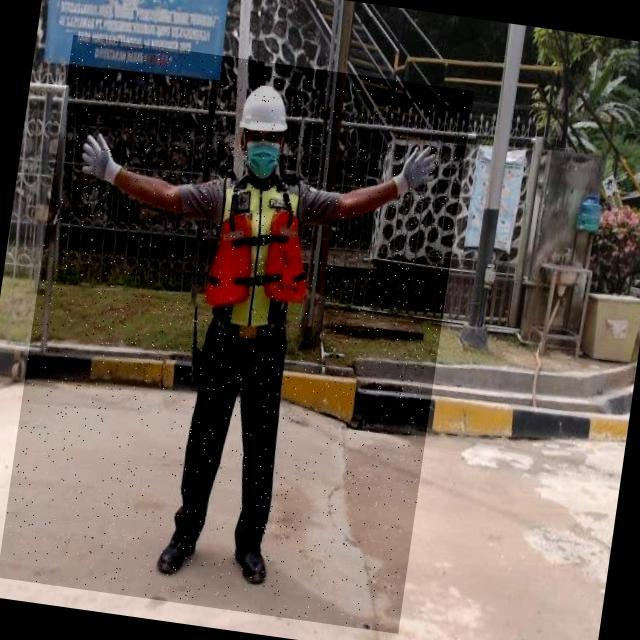Helmet: (237, 81, 295, 139)
Human: (0, 35, 474, 634)
Safety Boot: (154, 514, 203, 584), (226, 524, 276, 591)
Safety Vest: (199, 168, 324, 343)
